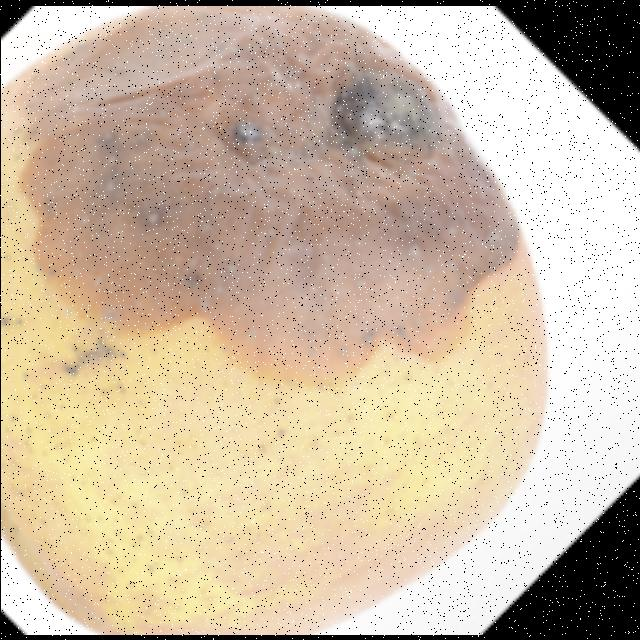Apel Tidak Segar: (0, 6, 556, 634)
